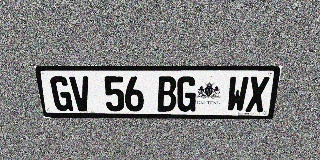5: (104, 76, 125, 111)
6: (124, 76, 144, 111)
B: (157, 76, 177, 112)
G: (49, 76, 73, 111), (177, 76, 197, 112)
V: (69, 76, 92, 111)
W: (226, 76, 249, 112)
X: (245, 76, 270, 112)
